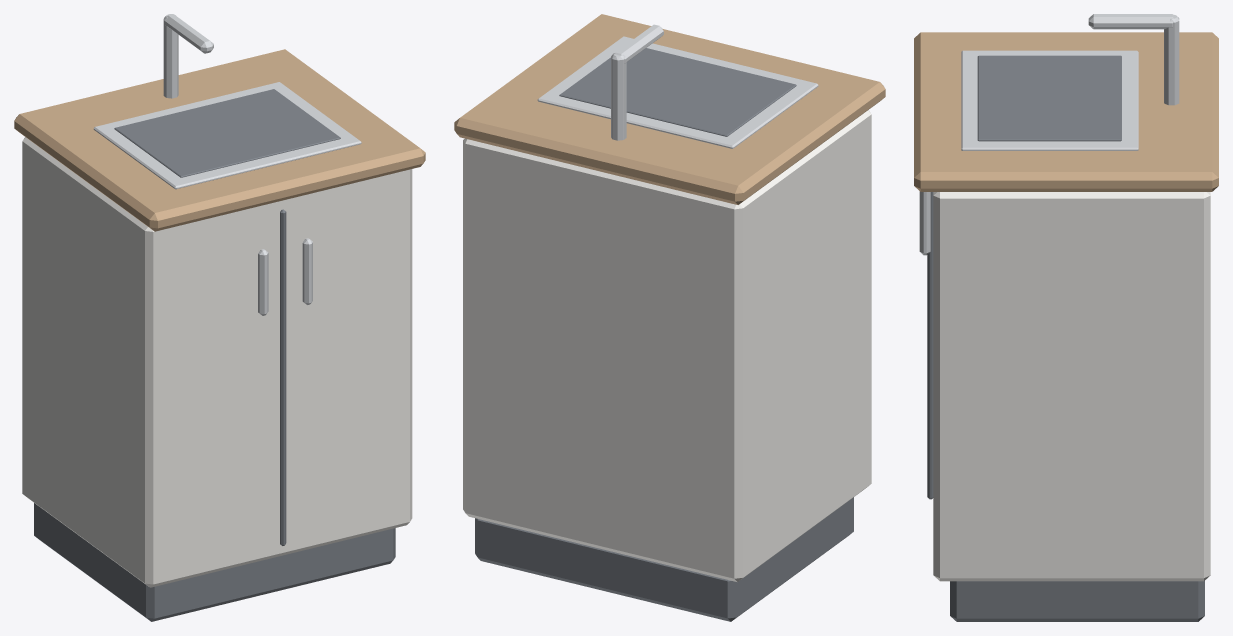
Rendered from SinkBaseUnit.glb.
3 renders of one model, left to right at view 1: azimuth 30°, elevation 25°; view 2: azimuth 150°, elevation 25°; view 3: azimuth 270°, elevation 25°, orthographic. The views are drawn at different scales.
Parts seen in each view (by area): view 1: SinkBaseUnit_Body; view 2: SinkBaseUnit_Body; view 3: SinkBaseUnit_Body.
Part boxes in pixels (left/top/right/bottom): SinkBaseUnit_Body: left=14, top=14, right=425, bottom=621; SinkBaseUnit_Body: left=454, top=14, right=885, bottom=621; SinkBaseUnit_Body: left=914, top=14, right=1218, bottom=621.
Bounding box in the file's own units: 0.62 × 1.08 × 0.55.
